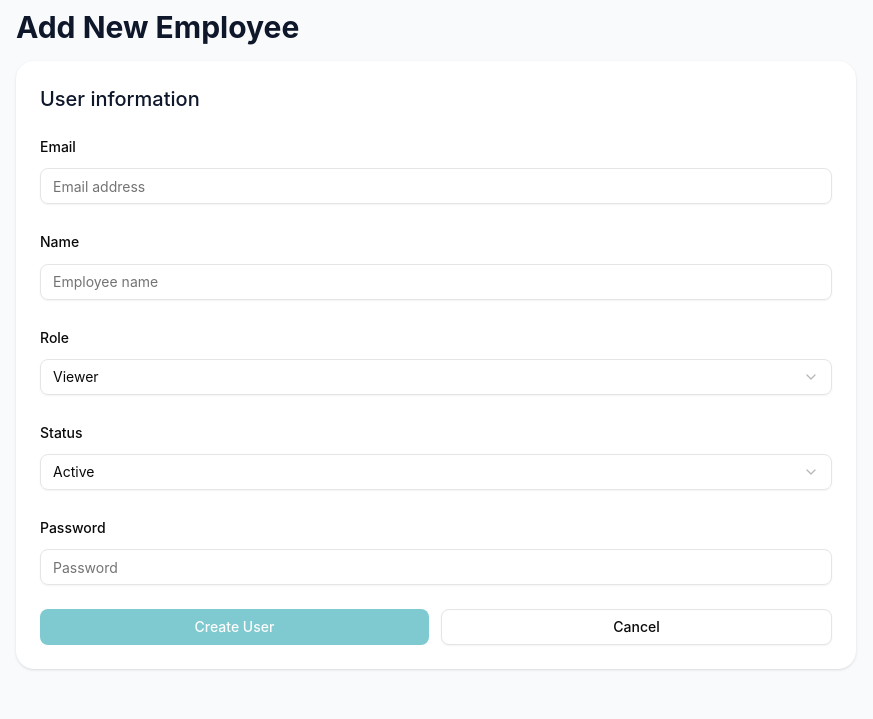
Test: EmployeeNew › shows an inline validation error when an invalid email is blurred
The image size is (873, 719).
Type "not-an-email" into the field with test id "employees.new-form.email-input" at (436, 186), box top-left (40, 168), bottom-right (832, 204)
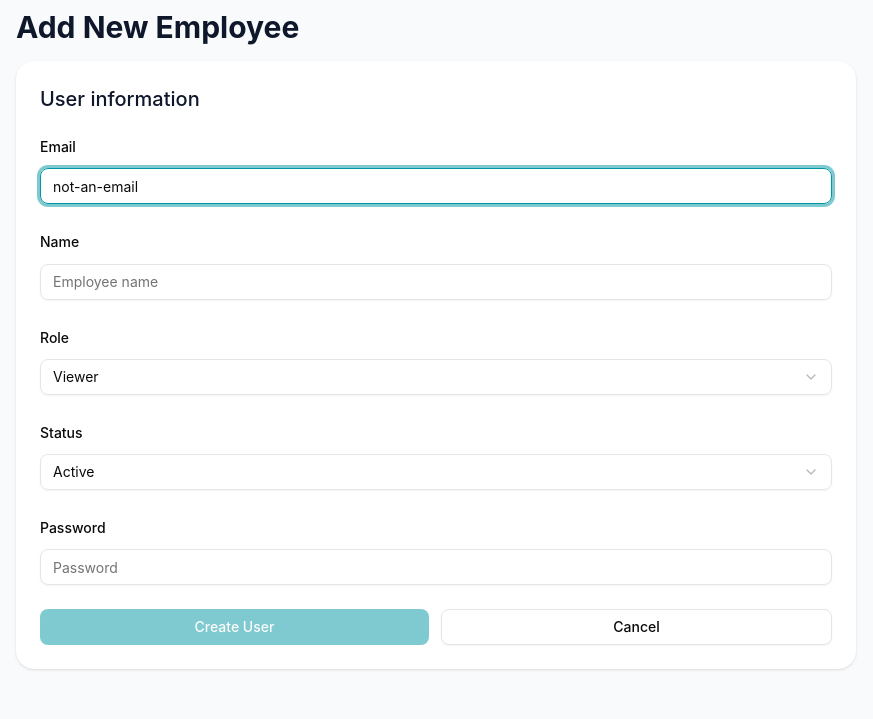
Press Tab
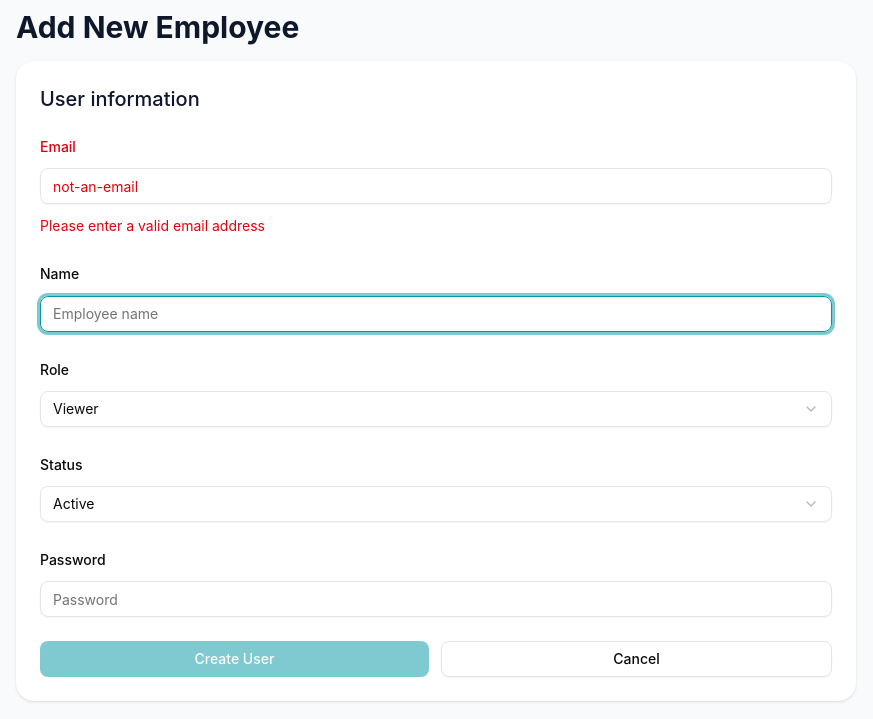
expect the text "Please enter a valid email address" is shown: met, box top-left (40, 217), bottom-right (265, 234)
